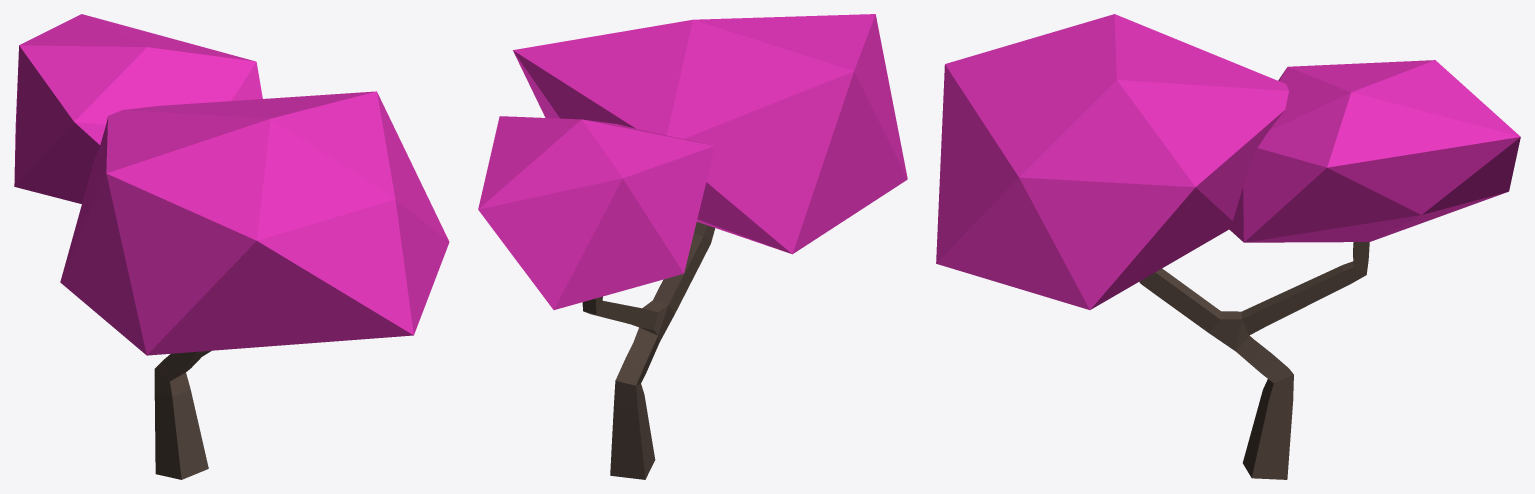
Rendered from Arbol 2.fbx.
3 renders of one model, left to right at view 1: azimuth 30°, elevation 25°; view 2: azimuth 150°, elevation 25°; view 3: azimuth 270°, elevation 25°, orthographic. The views are drawn at different scales.
Visible parts, largest first — view 1: polySurface3; view 2: polySurface3; view 3: polySurface3.
Part boxes in pixels (x1,y1,x2,y2): polySurface3: [14, 14, 449, 479]; polySurface3: [478, 14, 907, 479]; polySurface3: [936, 14, 1520, 479].
Bounding box in the file's own units: 32.28 × 37.17 × 49.18.
